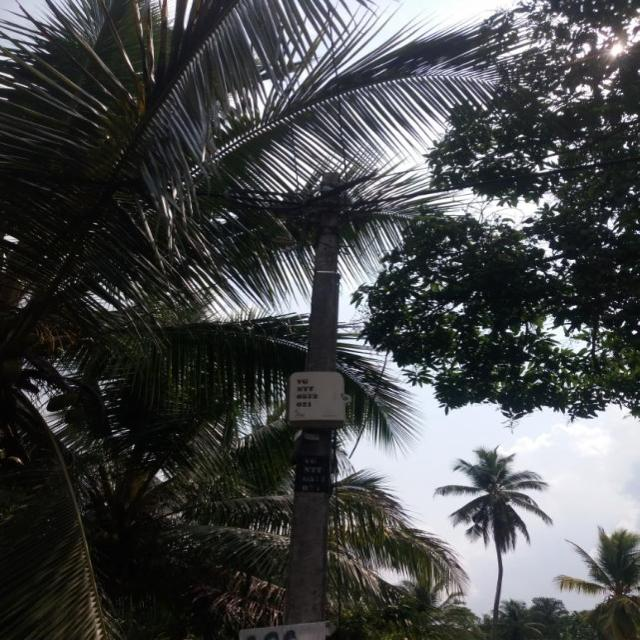light_pole: (278, 168, 361, 640)
